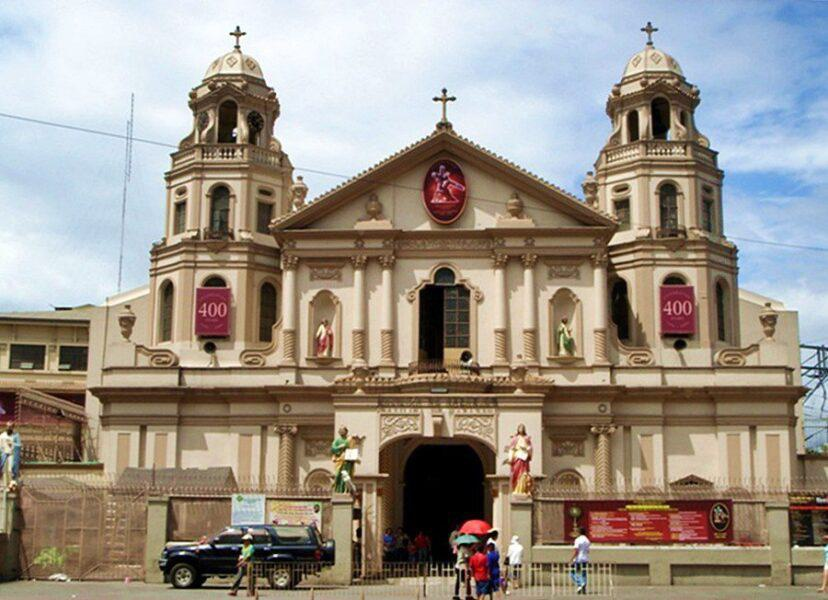quiapo_church_quiapo_manila: (80, 9, 806, 564)
